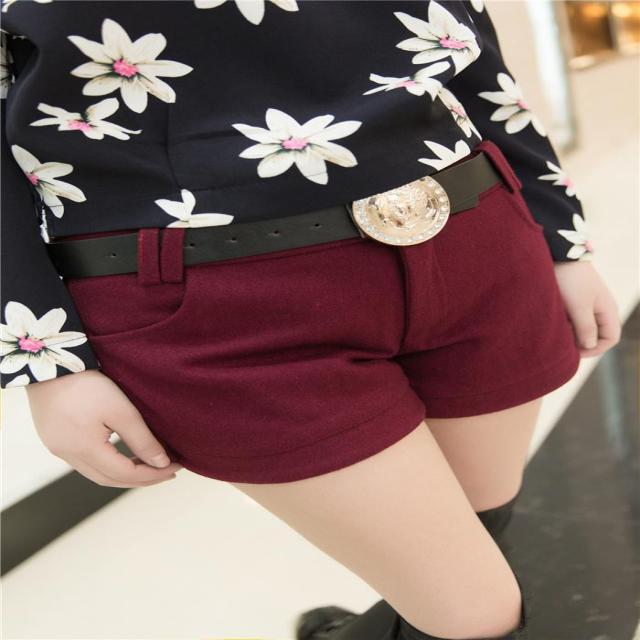long sleeve top: (3, 3, 485, 238)
shorts: (56, 145, 580, 464)
